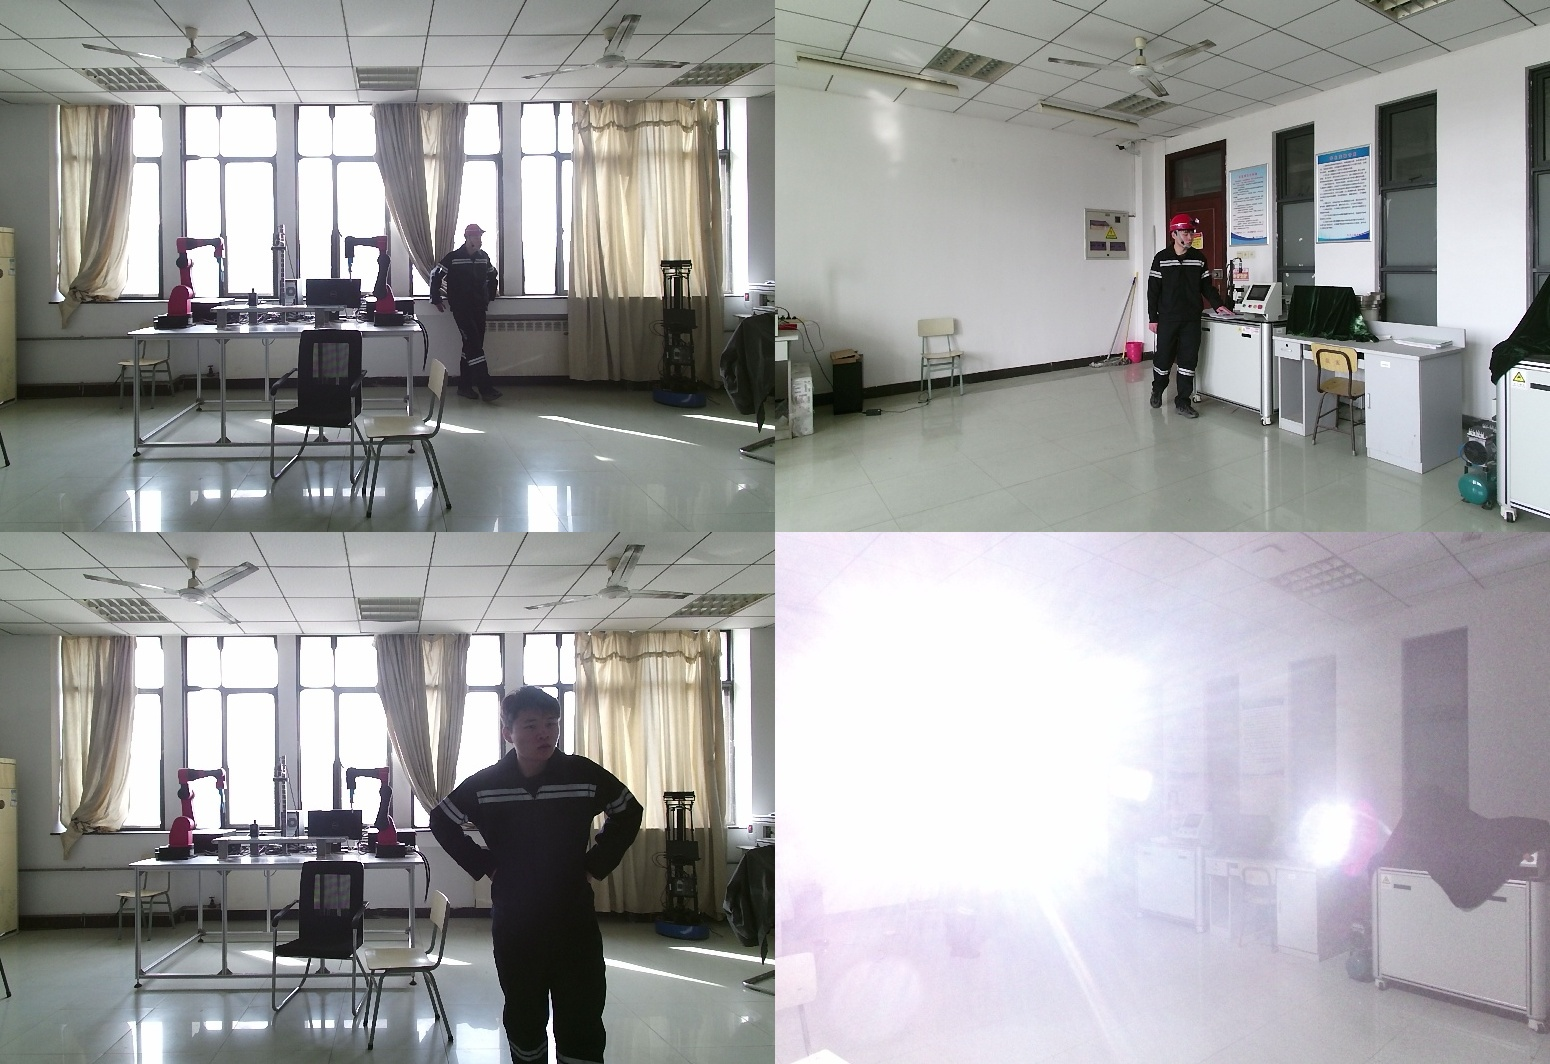person: (437, 684, 674, 1064), (919, 752, 999, 975), (1143, 215, 1226, 420), (433, 226, 516, 406)
